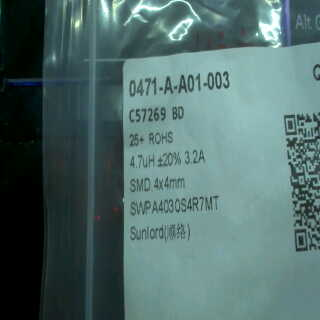4.7uH: (128, 153, 155, 172)
